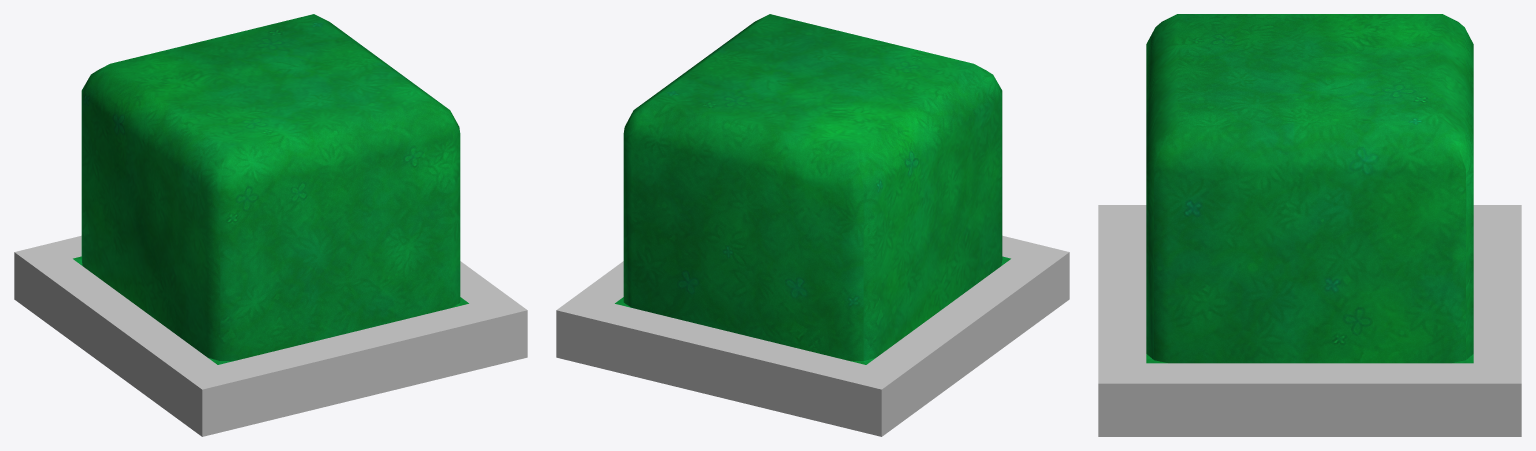
The model's file is Plant01_c03.FBX.
3 views of the same model, side by side, from view 1: azimuth 30°, elevation 25°; view 2: azimuth 150°, elevation 25°; view 3: azimuth 270°, elevation 25° (orthographic). The views are drawn at different scales.
Parts seen in each view (by area): view 1: Plant01_c03; view 2: Plant01_c03; view 3: Plant01_c03.
Part boxes in pixels (x1=…): Plant01_c03: x1=14, y1=14, x2=527, y2=436; Plant01_c03: x1=556, y1=14, x2=1069, y2=436; Plant01_c03: x1=1098, y1=14, x2=1521, y2=436.
Size of the model in its own units: 339 by 245 by 339.
